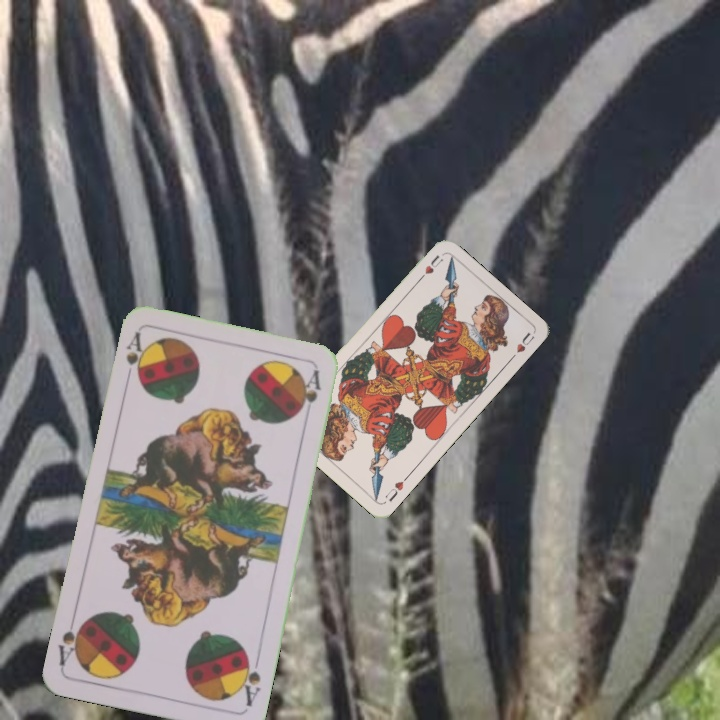HU: (414, 251, 446, 284), (381, 472, 411, 505)
SA: (235, 650, 264, 709), (122, 328, 147, 382)
